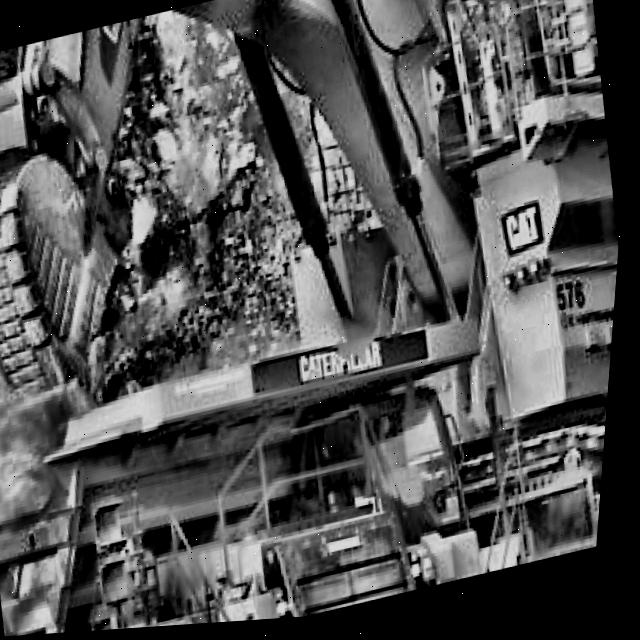dump_truck: (0, 282, 577, 639)
